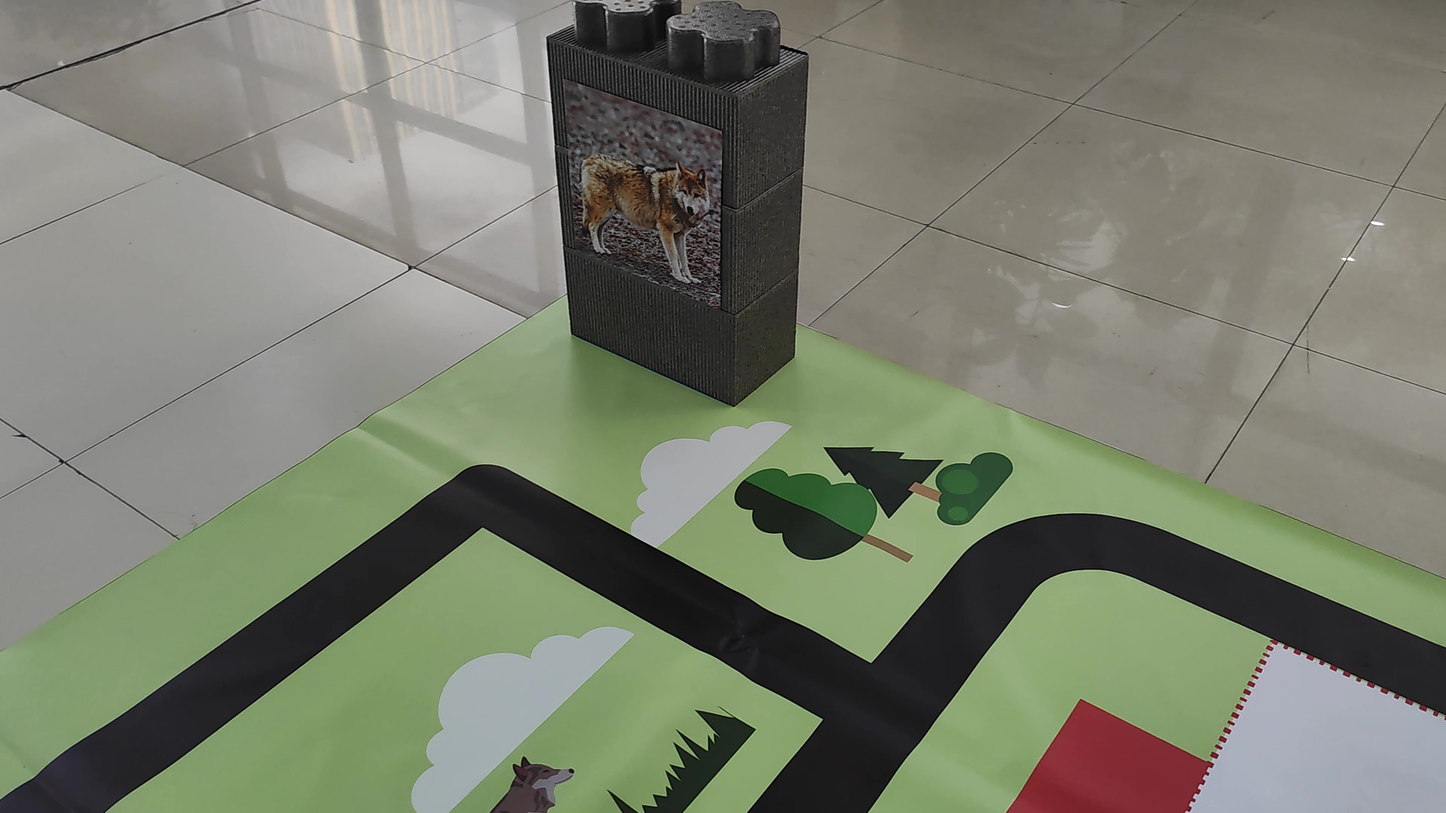wolf: (564, 128, 726, 285)
